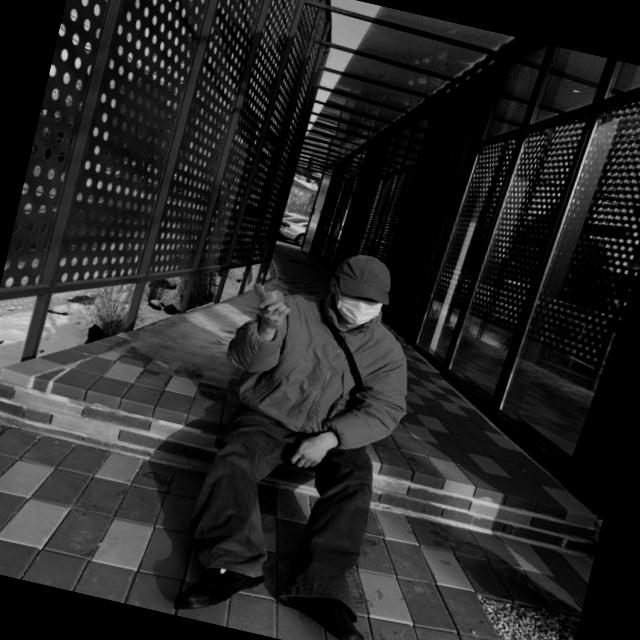cottonpants: (174, 394, 398, 619)
padding: (207, 274, 426, 466)
